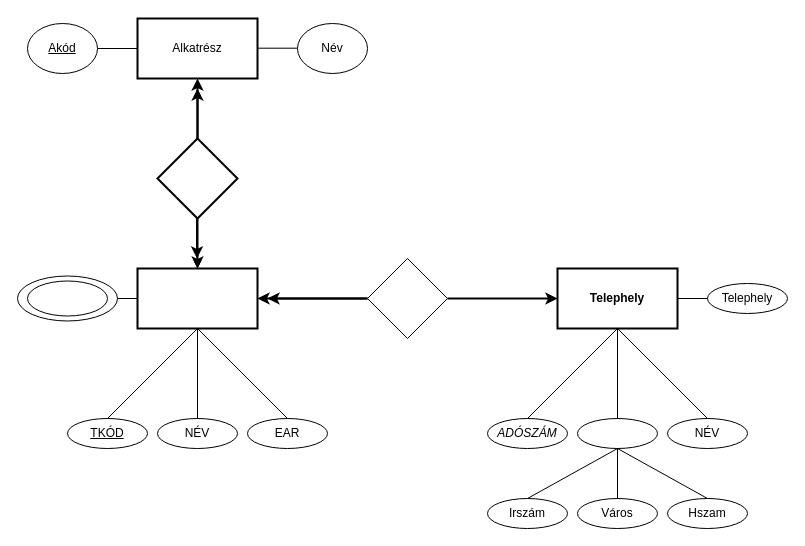
The diagram is 805 pixels wide and 546 high, and some of its shapes have lost their labels. The shapes that lost their labels are listed below. From the top down, each one's box as (x1, y1, x2, y2) in pixels, then its label:
(156, 137, 238, 219): T_A
(26, 280, 108, 316): Egység_db
(136, 267, 258, 329): Termék
(366, 258, 448, 338): T-GY
(576, 418, 658, 448): Postacím
